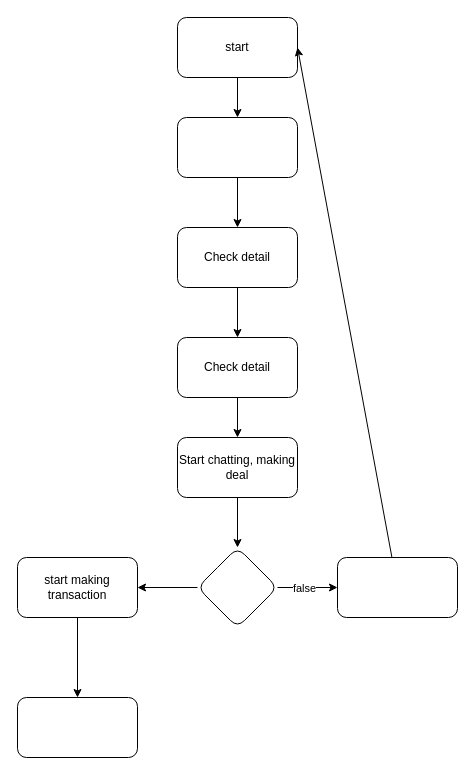
Image size: 475x775. Some labels were removed from this diagram. The shapes that lost their labels are listed below. From the top down, each one's centre as x and y in pixels, then its label:
the point at 237,147: Click on work
the point at 237,587: Deal
the point at 397,587: Go back to home
